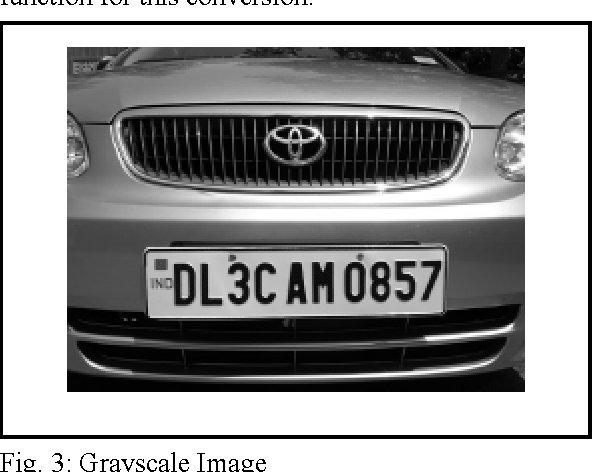Liscence Plate: (139, 249, 472, 322)
